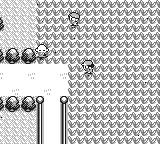captura: (37, 0, 160, 143)
main: (81, 61, 94, 73)
no-caminable: (1, 48, 36, 64), (1, 96, 36, 112), (1, 17, 4, 32)
npc: (36, 45, 49, 58), (68, 12, 80, 26)
